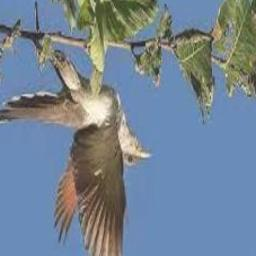Cuckoo: (0, 55, 153, 256)
